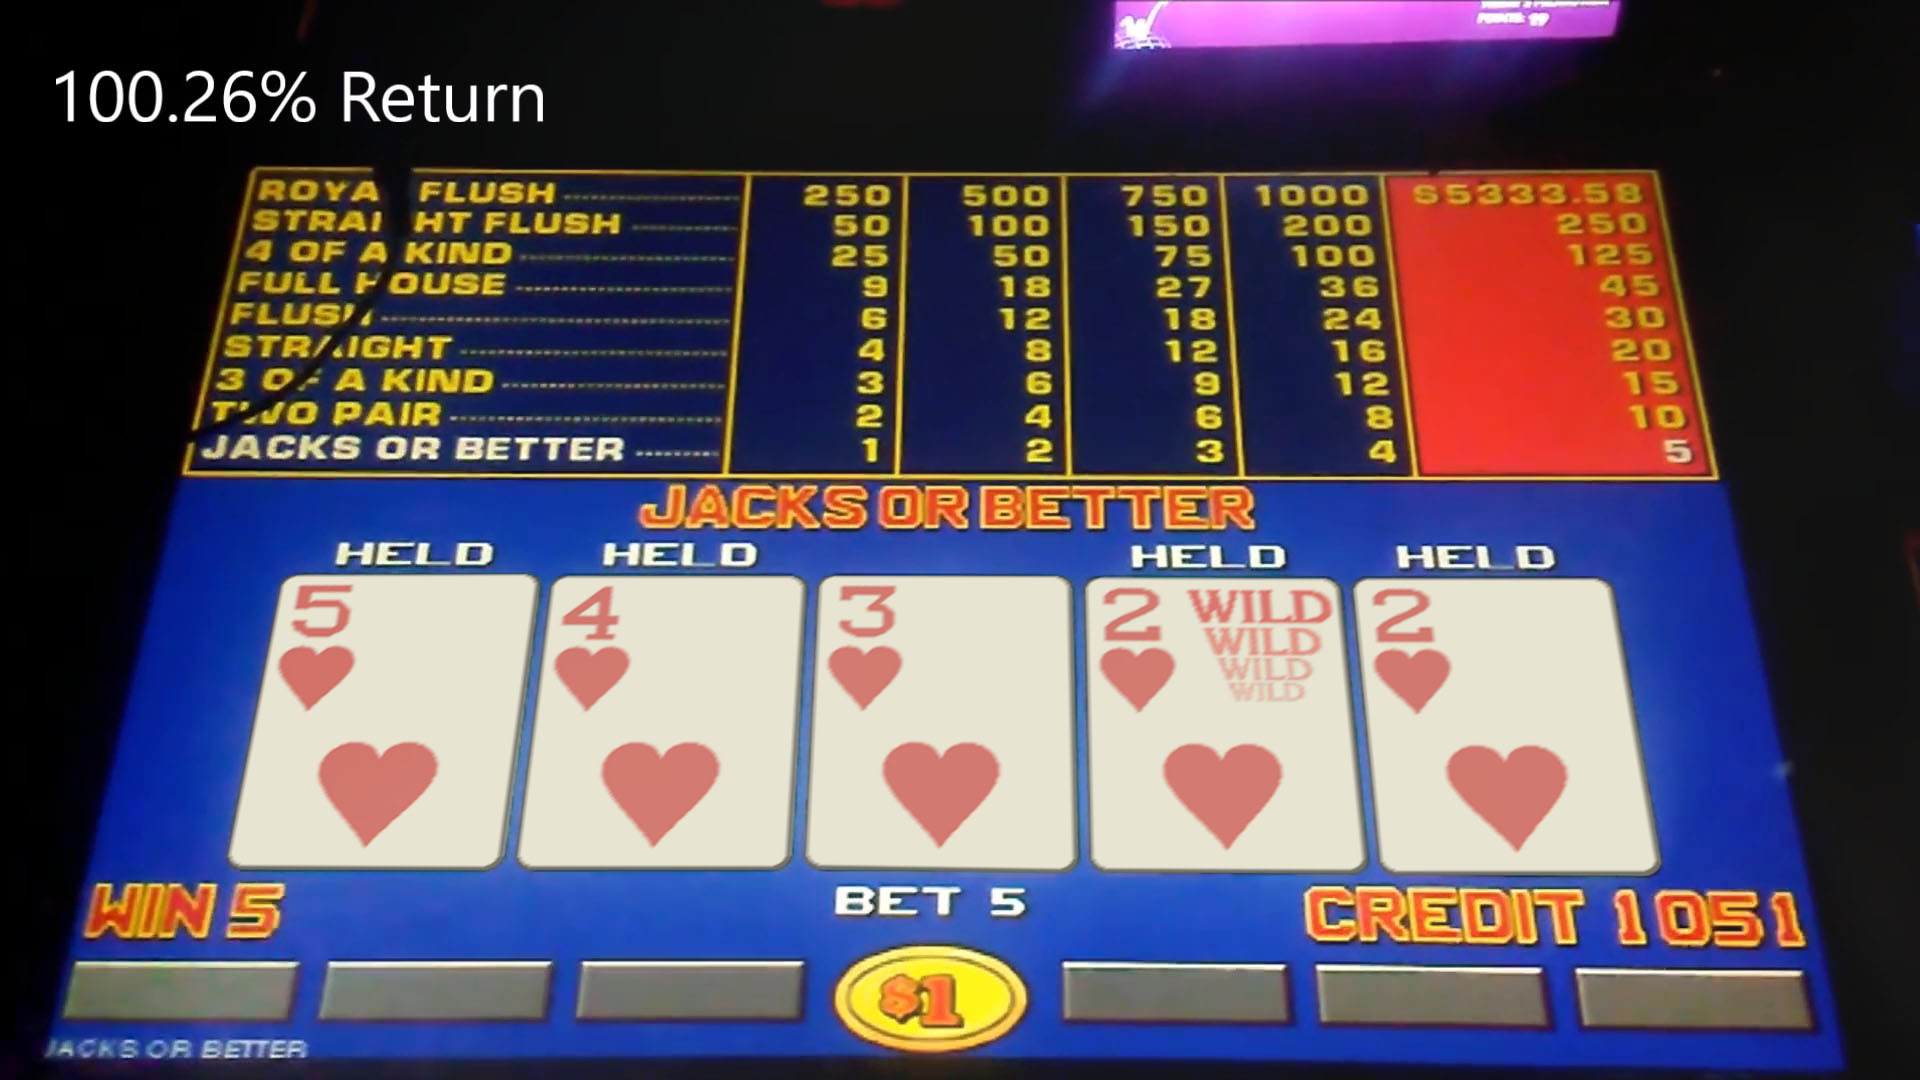H2: (1370, 582, 1611, 724)
H2W: (1091, 580, 1338, 725)
H3: (822, 576, 1068, 731)
H4: (553, 578, 793, 735)
H5: (276, 576, 518, 727)
